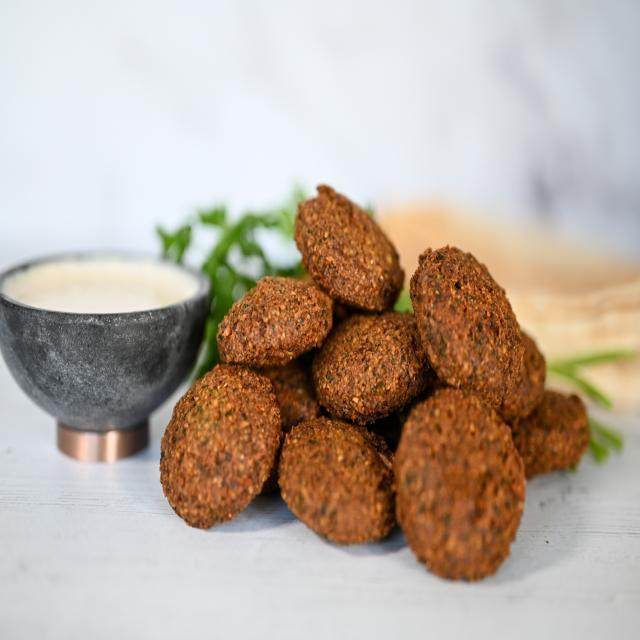flafel: (399, 385, 525, 585), (412, 241, 548, 407), (159, 368, 277, 519), (282, 417, 396, 547), (293, 185, 407, 313), (215, 276, 331, 366)
